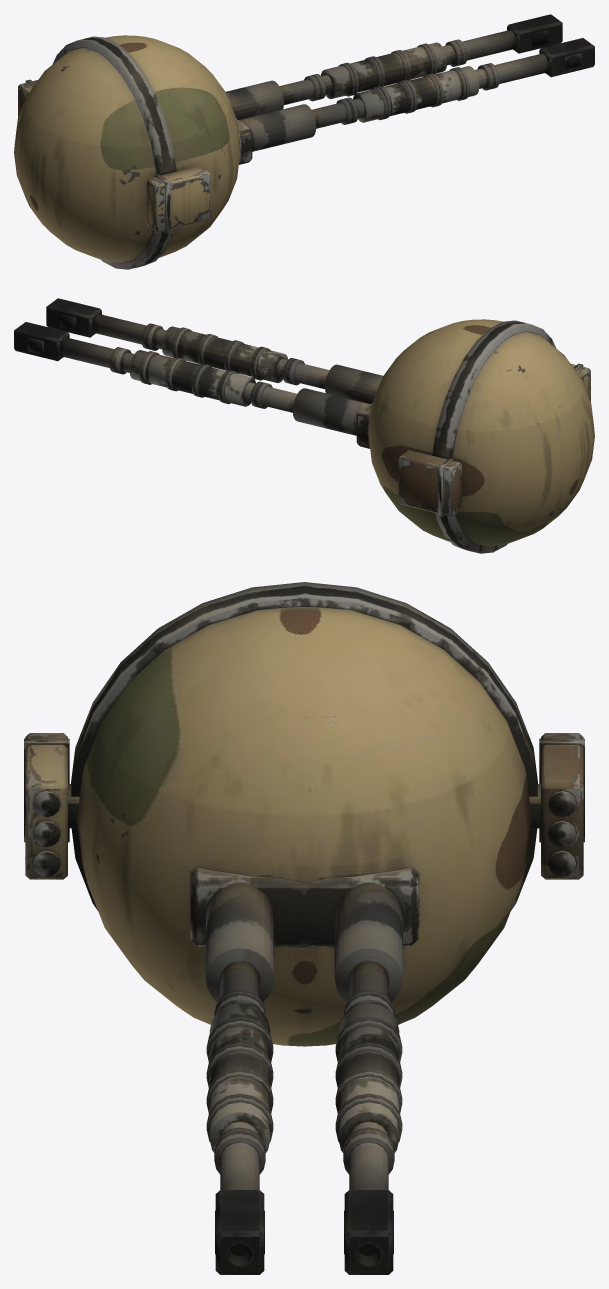
File: turret_kit_tail_ball_t3_reed.glb
3 views of the same model, one above another, from view 1: azimuth 30°, elevation 25°; view 2: azimuth 150°, elevation 25°; view 3: azimuth 270°, elevation 25° (orthographic). The views are drawn at different scales.
Parts seen in each view (by area): view 1: turret_tail_ball_t3, pods; view 2: turret_tail_ball_t3, pods; view 3: turret_tail_ball_t3, pods.
Part boxes in pixels (bbox=[...]): turret_tail_ball_t3: bbox=[14, 14, 594, 269]; pods: bbox=[18, 79, 210, 232]; turret_tail_ball_t3: bbox=[14, 298, 594, 553]; pods: bbox=[398, 363, 590, 516]; turret_tail_ball_t3: bbox=[71, 582, 537, 1274]; pods: bbox=[24, 733, 584, 879].
Size of the model in its own units: 1.66 by 0.62 by 0.7402.
Materials: 2 (2 with a texture image).
